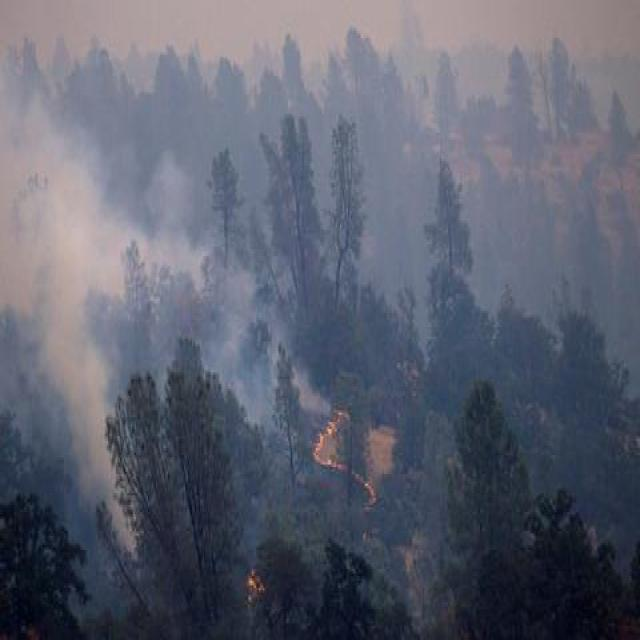Fire: (310, 403, 378, 512), (246, 564, 269, 601)
Smoke: (0, 0, 160, 573), (116, 144, 338, 432)
